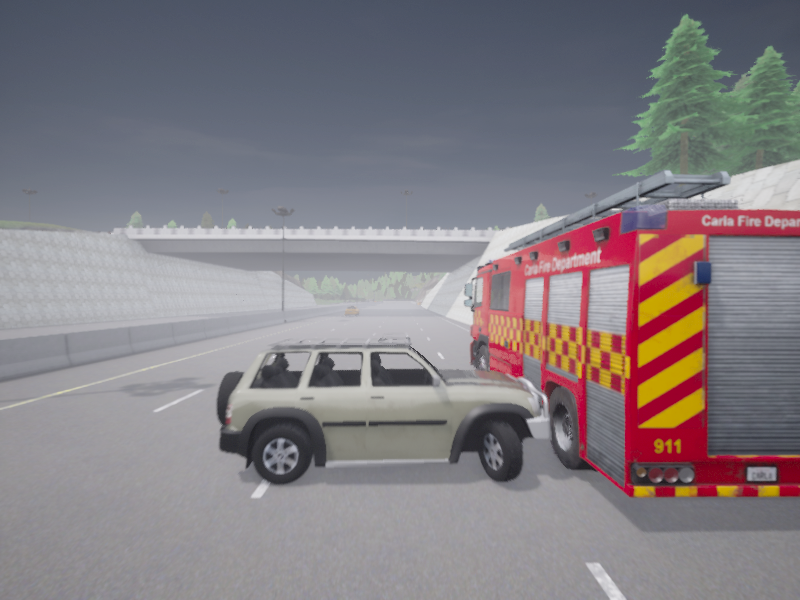vehicle: (464, 170, 799, 497), (216, 333, 550, 484), (345, 305, 359, 315)
